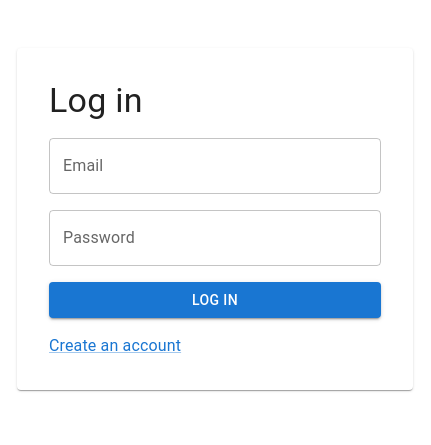
Test: LoginPage › links to the register page
Click the link "Create an account". click: (115, 346)
box: [49,336,181,355]
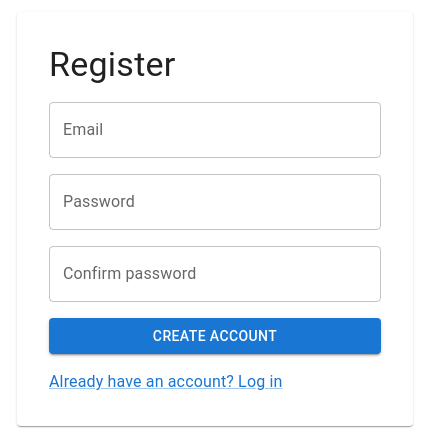
Now the heading "Register" is shown, box [49,44,176,84]
